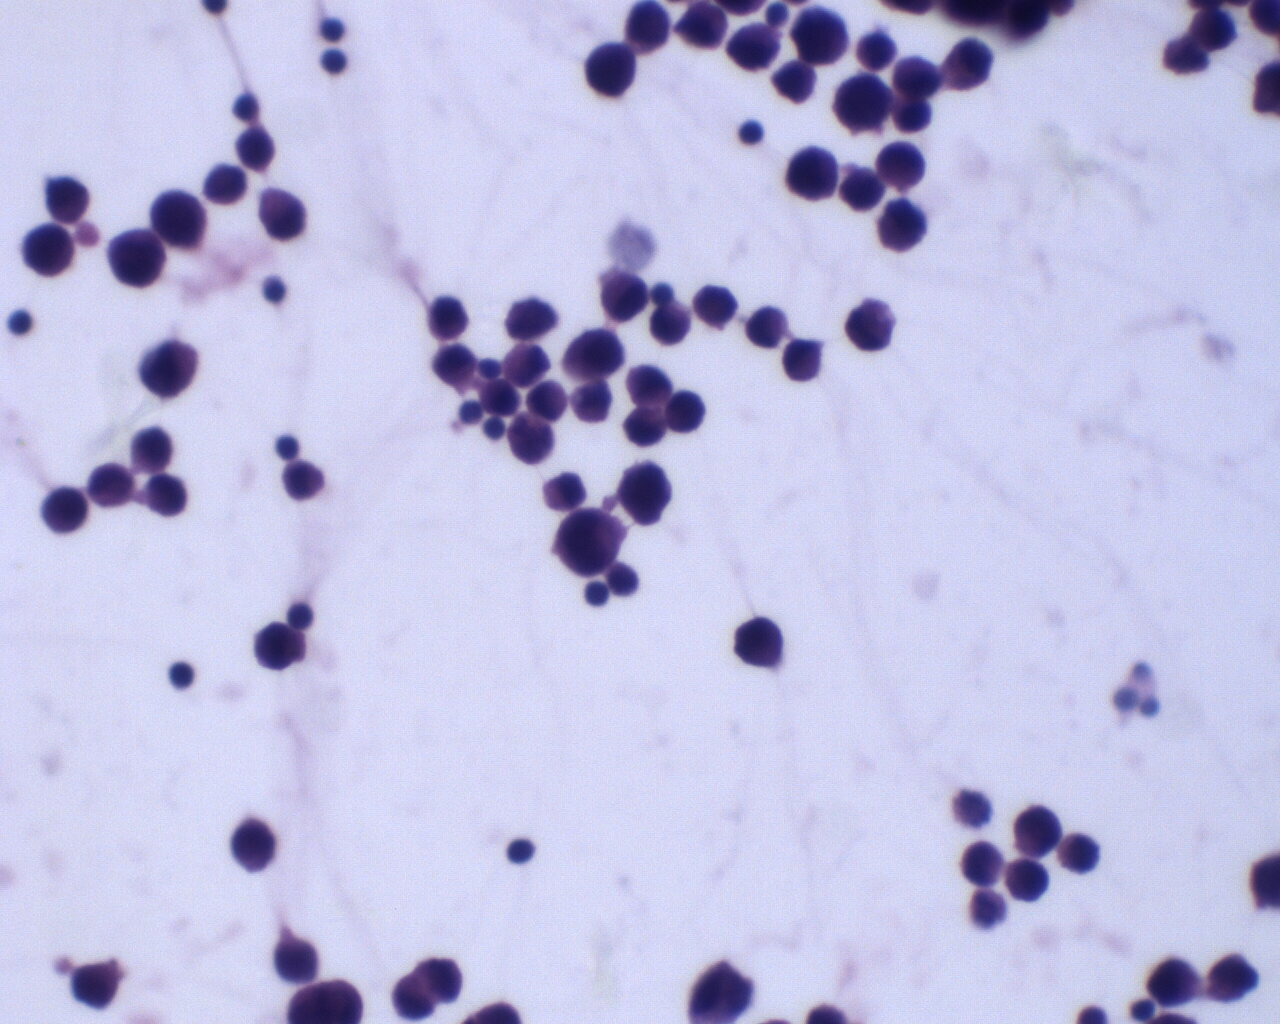ab: (553, 505, 625, 577), (138, 334, 203, 401), (104, 225, 168, 293), (833, 72, 893, 139), (840, 296, 904, 358), (148, 187, 209, 252), (789, 5, 850, 65), (577, 40, 638, 98), (784, 142, 840, 204), (19, 222, 77, 280), (1009, 800, 1063, 862), (874, 196, 927, 256), (597, 266, 650, 322), (254, 620, 306, 675), (506, 411, 558, 465), (85, 460, 135, 510), (1057, 830, 1106, 877)
lymph: (504, 827, 543, 868), (164, 656, 195, 692), (736, 117, 767, 148)
